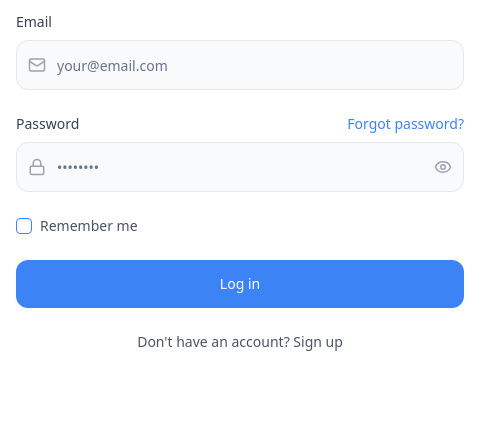
Test: LoginForm › shows validation errors when form is submitted empty
Click the button "Log in": click(240, 284) [16,260,464,308]
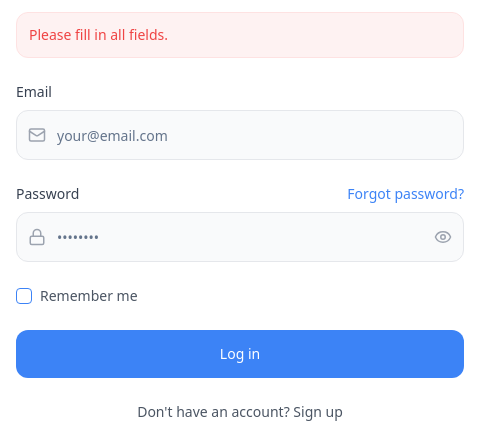
Result: the text "Please fill in all fields." is shown at [16,12,464,58]
